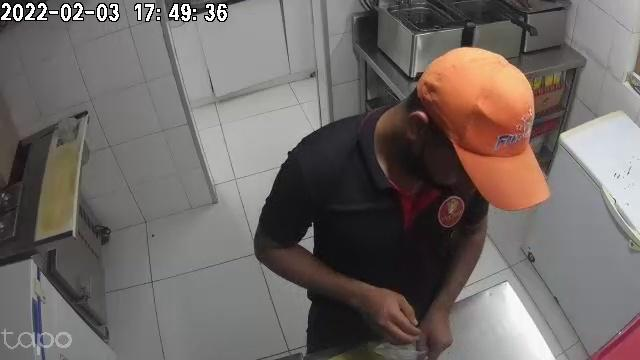no_gloves: (355, 281, 418, 342)
